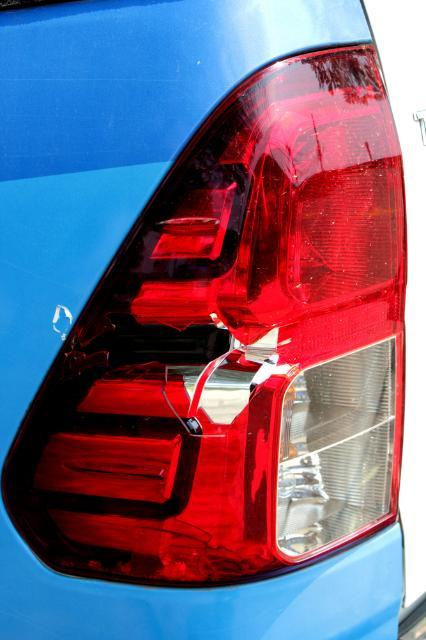lamp broken: (2, 44, 409, 590)
